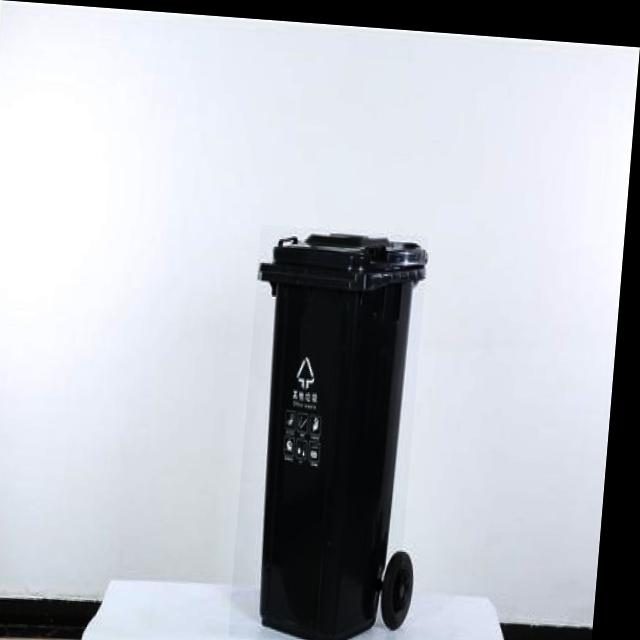garbage_bin: (238, 220, 432, 640)
